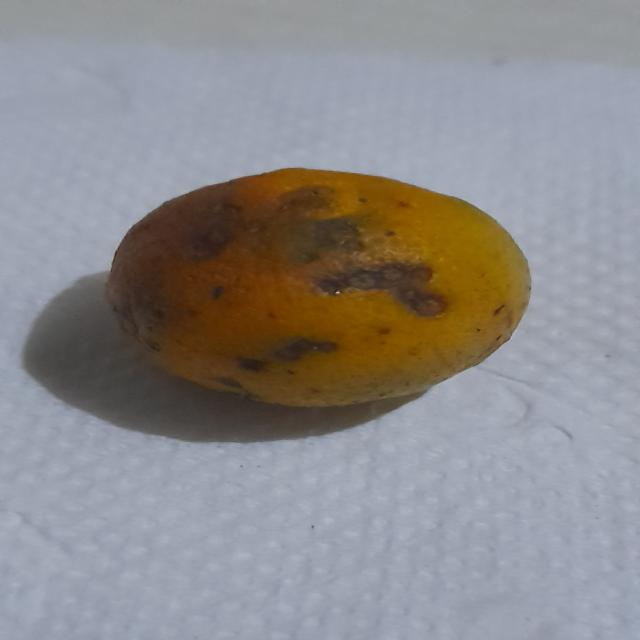black spot: (102, 169, 533, 419)
